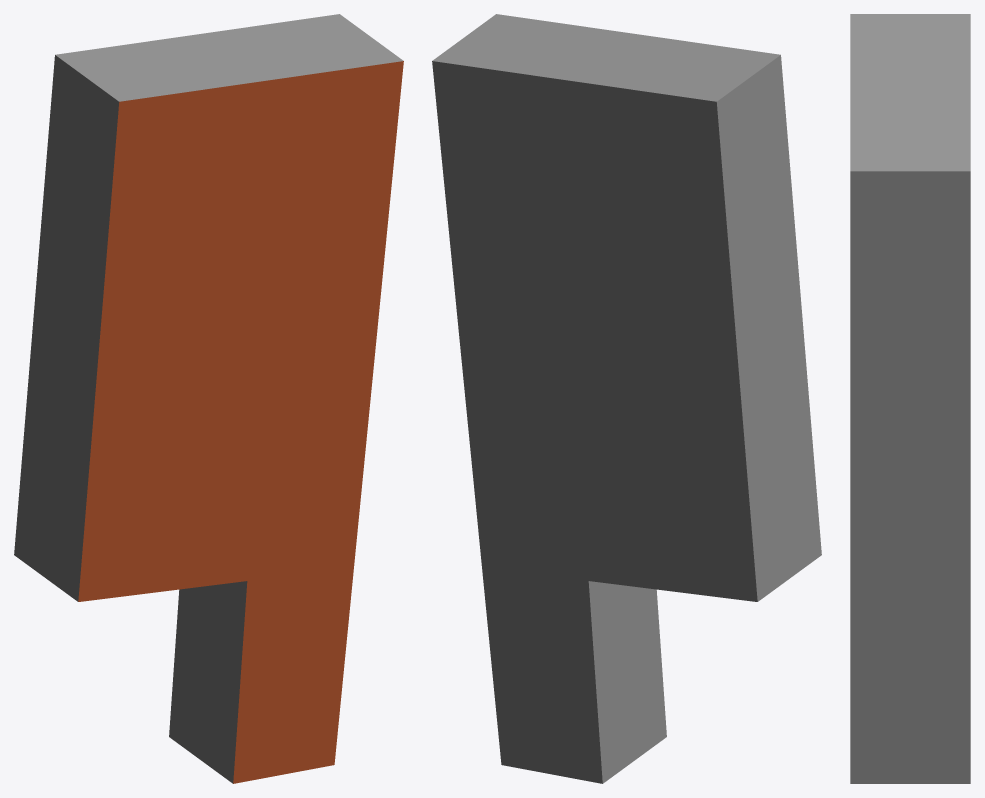
File: construction_1140_assumed_A_Casa_h6m.obj
3 views of the same model, side by side, from view 1: azimuth 30°, elevation 25°; view 2: azimuth 150°, elevation 25°; view 3: azimuth 270°, elevation 25° (orthographic). The views are drawn at different scales.
Parts seen in each view (by area): view 1: construction_1140_assumed_A_Casa; view 2: construction_1140_assumed_A_Casa; view 3: construction_1140_assumed_A_Casa.
Part boxes in pixels (x1,y1,x2,y2): construction_1140_assumed_A_Casa: (14,14,403,783); construction_1140_assumed_A_Casa: (432,14,821,783); construction_1140_assumed_A_Casa: (850,14,970,783).
Size of the model in its own units: 17.56 by 36.89 by 6.
